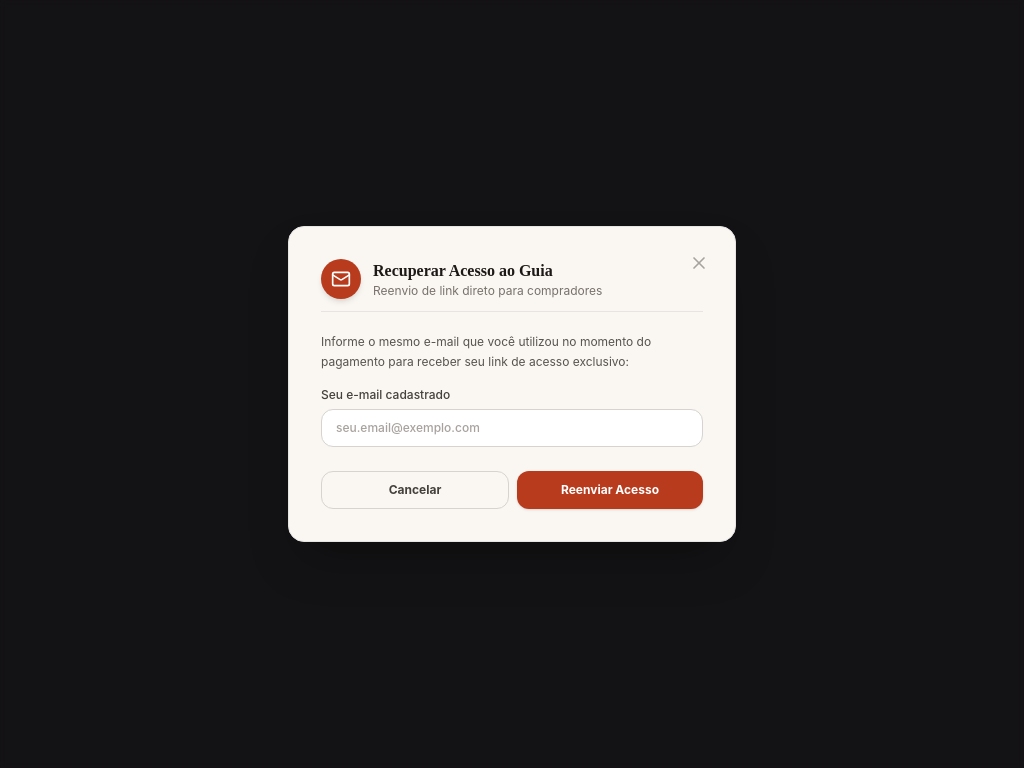
Test: NORQVA — RecoveryRequestModal UI Error Contract Suite › 1. HTTP 200: Renders success confirmation screen with enumeration-safe message
Type "cliente@example.com" into the field with placeholder "seu.email@exemplo.com" at (512, 428), box [321,409,703,447]
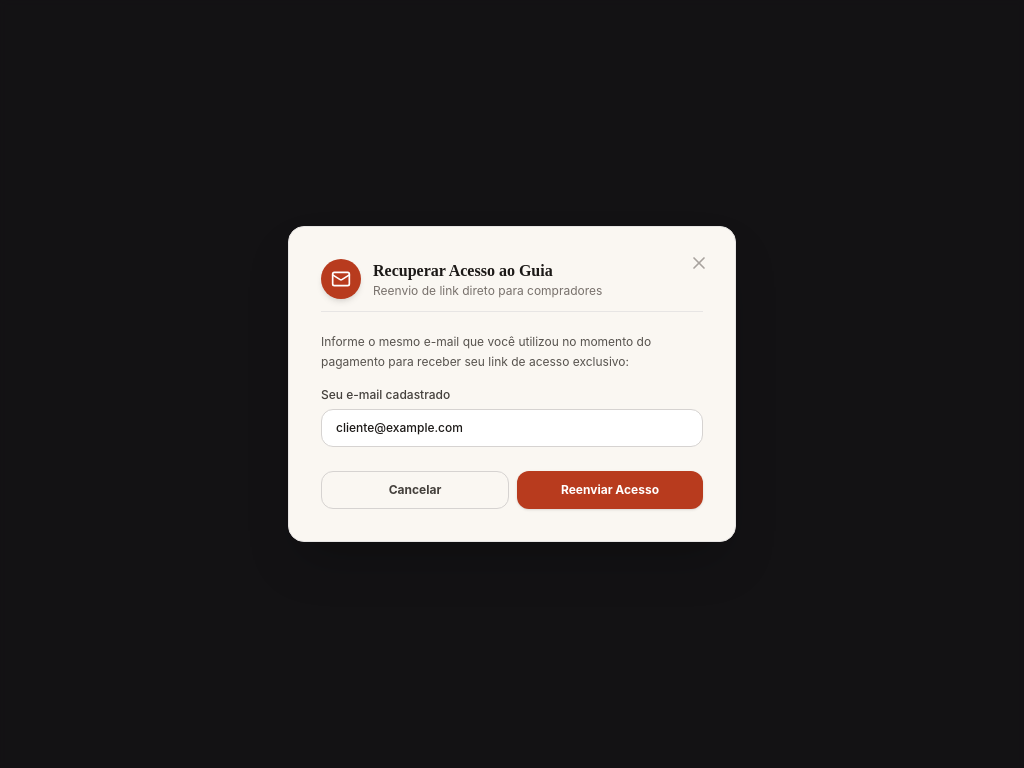
Click the button "Reenviar Acesso" at (610, 490), box [517,471,703,509]
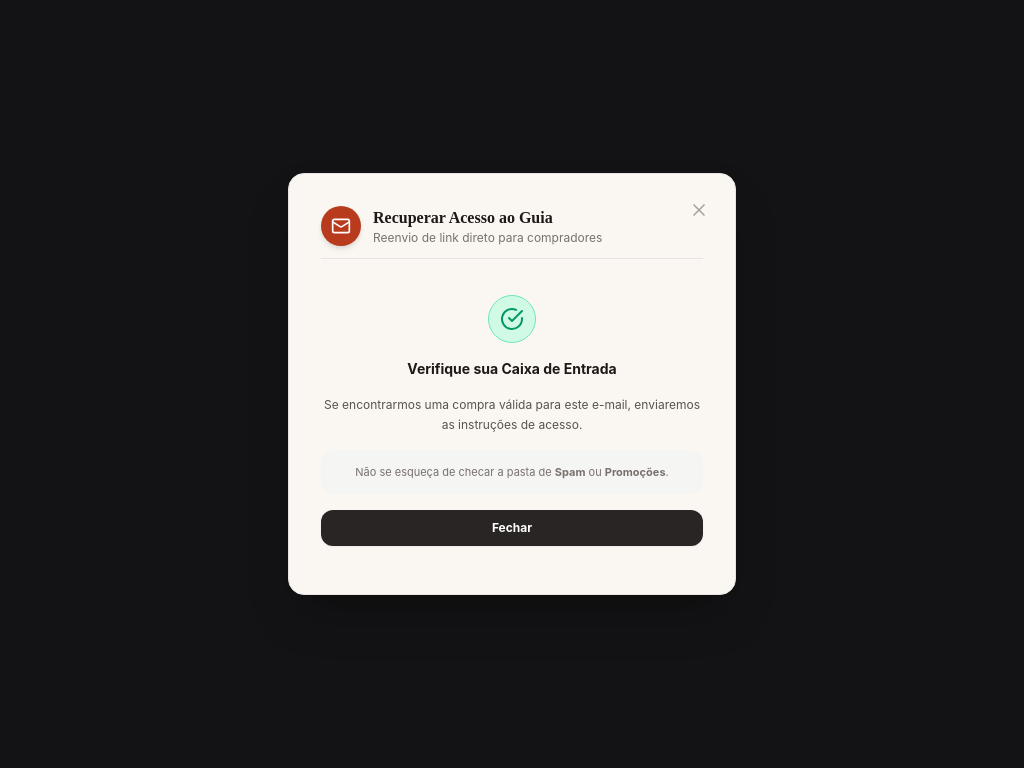
expect the heading "Verifique sua Caixa de Entrada" is shown: met, box [407,360,617,377]
expect the text "Se encontrarmos uma compra válida" is shown: met, box [324,397,700,432]
